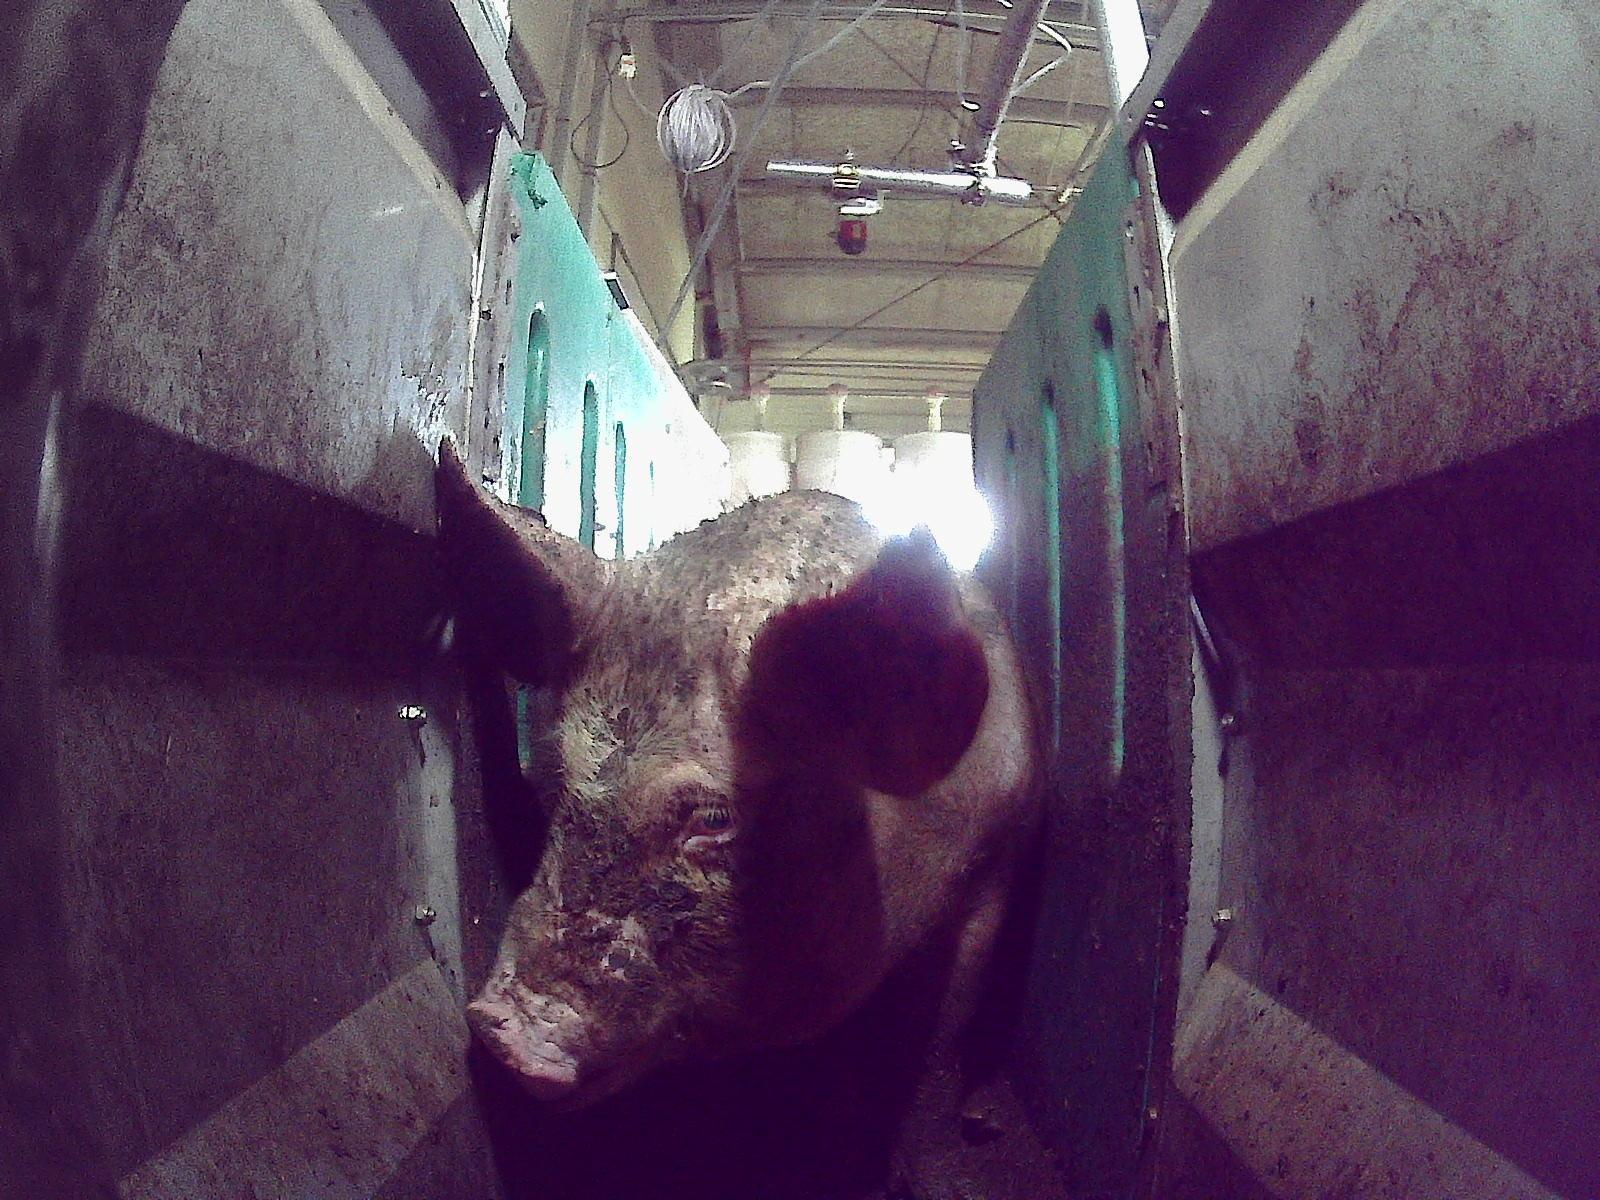Face: (468, 564, 894, 1112)
